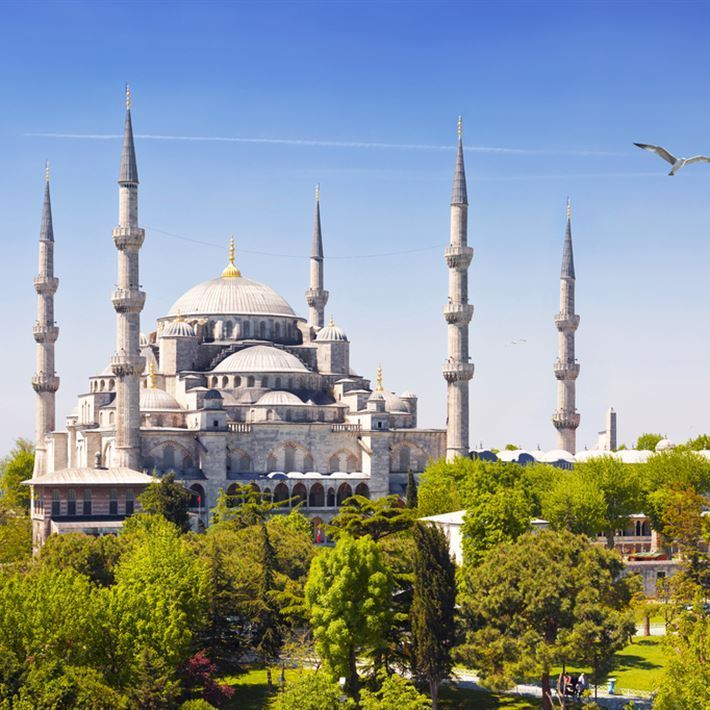Mosque: (21, 96, 595, 529)
